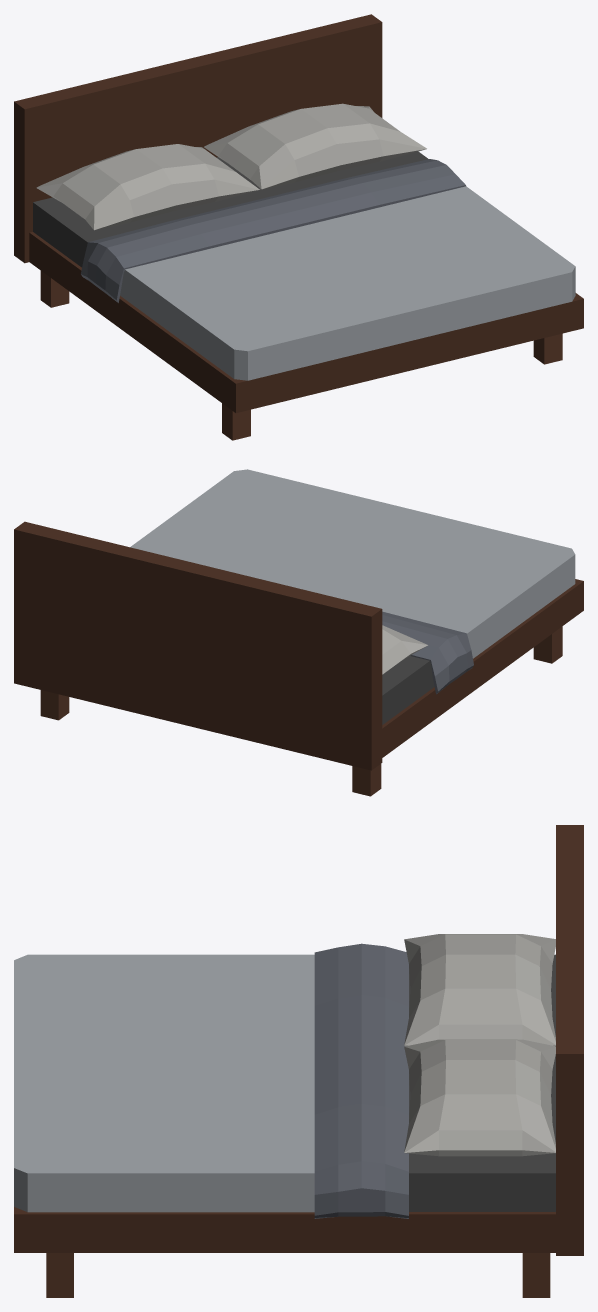
File: Bed_1C.fbx
The picture shows the model from 3 angles, top to bottom: view 1: azimuth 30°, elevation 25°; view 2: azimuth 150°, elevation 25°; view 3: azimuth 270°, elevation 25°; orthographic projection. The views are drawn at different scales.
Visible parts, largest first — view 1: polySurface1818; view 2: polySurface1818; view 3: polySurface1818.
Part boxes in pixels (box(x1,y1,x2,y2)): polySurface1818: box(14, 14, 583, 440); polySurface1818: box(14, 469, 583, 796); polySurface1818: box(14, 825, 583, 1297).
Size of the model in its own units: 3.84 by 1.96 by 4.
Materials: 1 (1 with a texture image).
